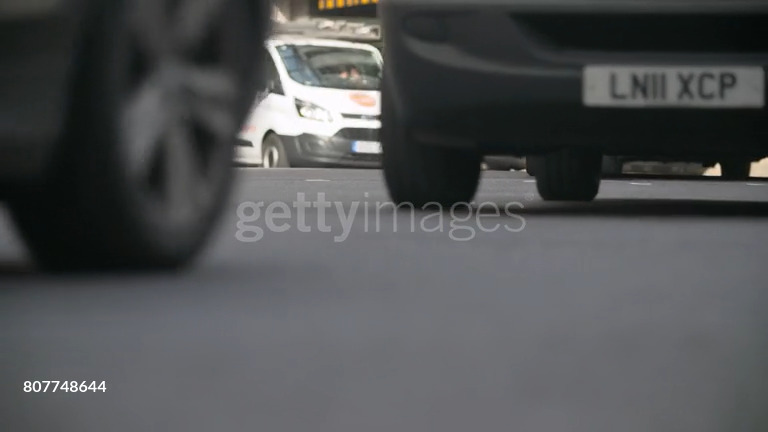car number: (578, 64, 765, 107)
